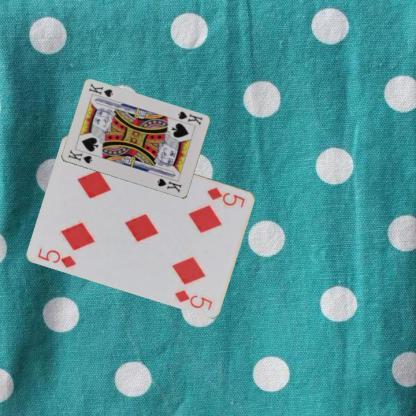5d: (204, 184, 247, 209), (35, 245, 78, 270)
Ks: (174, 108, 204, 126), (65, 148, 94, 166)
